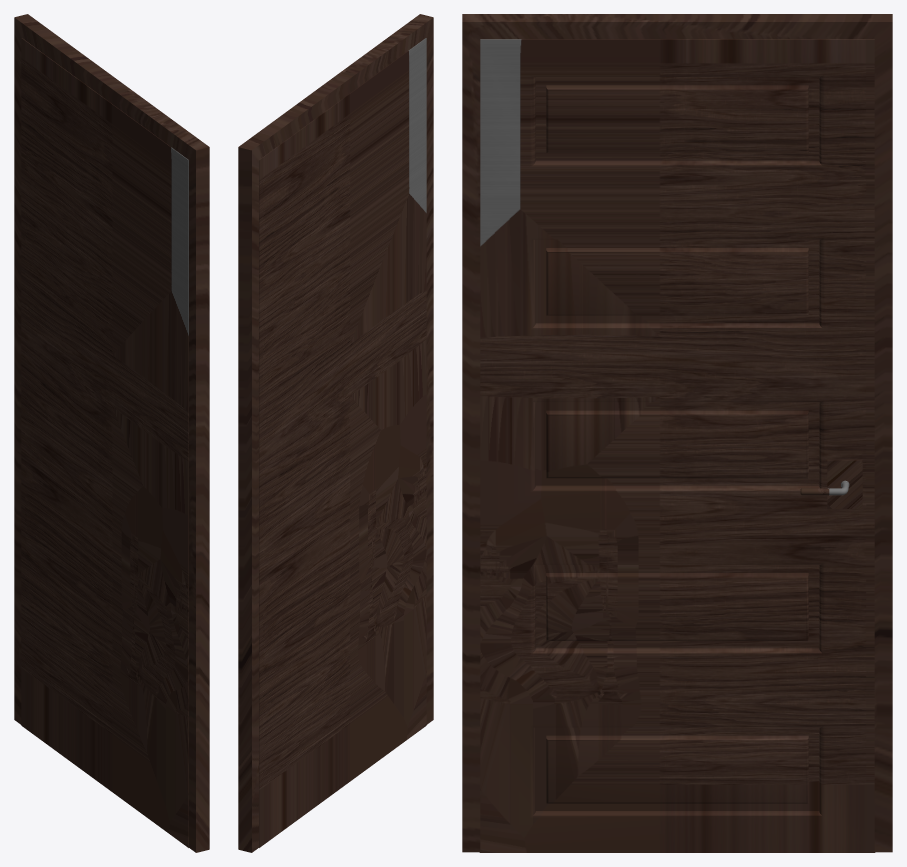
Rendered from Door.obj.
3 views of the same model, side by side, from view 1: azimuth 30°, elevation 25°; view 2: azimuth 150°, elevation 25°; view 3: azimuth 270°, elevation 25° (orthographic). The views are drawn at different scales.
Parts seen in each view (by area): view 1: Cube_Cube.001; view 2: Cube_Cube.001; view 3: Cube_Cube.001.
Part boxes in pixels (x1,y1,x2,y2): Cube_Cube.001: (14, 14, 209, 852); Cube_Cube.001: (238, 14, 433, 852); Cube_Cube.001: (462, 14, 892, 852).
Size of the model in its own units: 0.0996 by 2.23 by 1.05.
